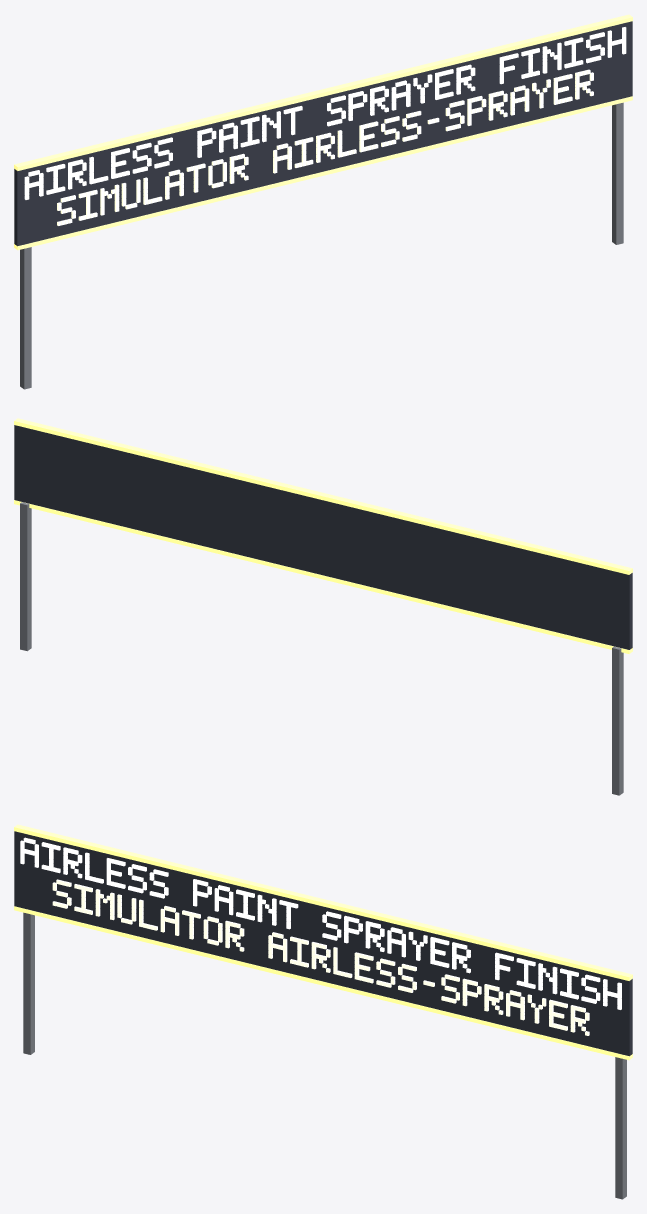
File: wing-sign-airless-sprayer.glb
3 renders of one model, top to bottom at view 1: azimuth 30°, elevation 25°; view 2: azimuth 150°, elevation 25°; view 3: azimuth 330°, elevation 25°, orthographic.
Parts seen in each view (by area): view 1: Sign · Airless Paint Sprayer Finish; view 2: Sign · Airless Paint Sprayer Finish; view 3: Sign · Airless Paint Sprayer Finish.
Boxes of the visible parts, x1=… form: Sign · Airless Paint Sprayer Finish: x1=14, y1=14, x2=632, y2=389; Sign · Airless Paint Sprayer Finish: x1=14, y1=418, x2=632, y2=795; Sign · Airless Paint Sprayer Finish: x1=14, y1=824, x2=632, y2=1199.
Size of the model in its own units: 13.23 by 4.63 by 0.2464.
